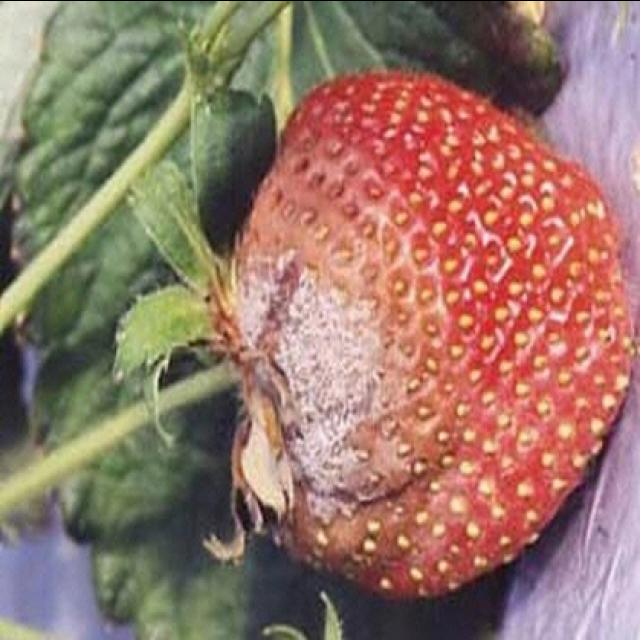Gray Mold: (201, 127, 467, 589)
